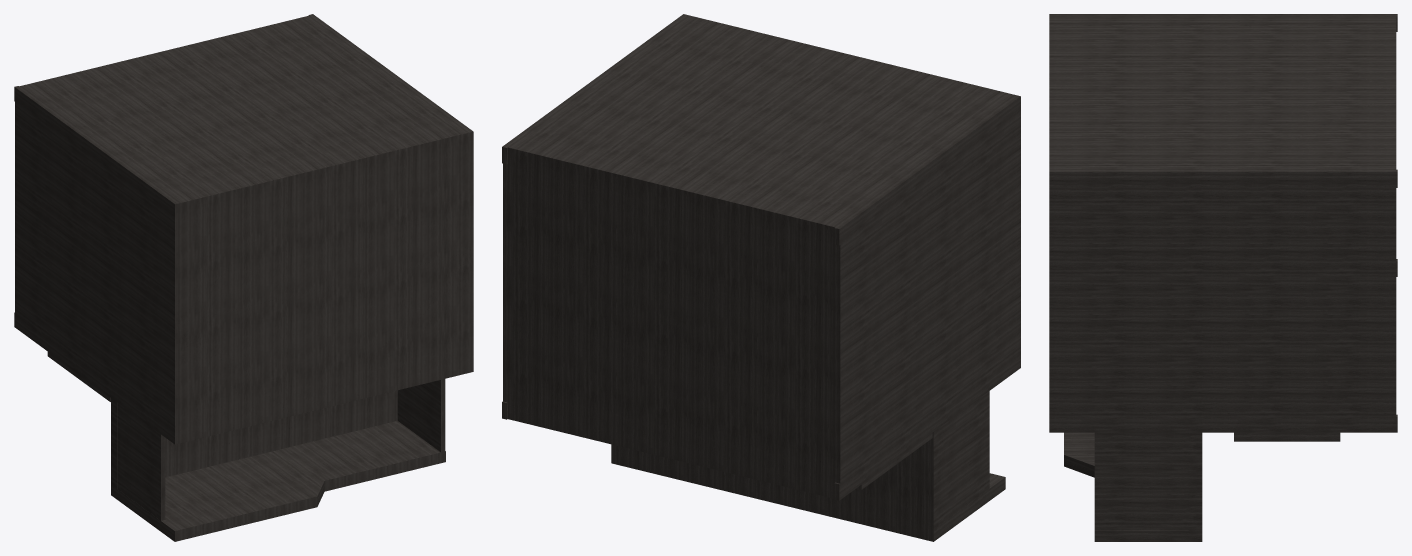
The model's file is mesita.dae.
3 renders of one model, left to right at view 1: azimuth 30°, elevation 25°; view 2: azimuth 150°, elevation 25°; view 3: azimuth 270°, elevation 25°, orthographic. The views are drawn at different scales.
Parts seen in each view (by area): view 1: node; view 2: node; view 3: node.
Boxes of the visible parts, x1,y1,x2,y2 form: node: (14,14,473,541); node: (502,14,1020,541); node: (1049,14,1397,541).
Size of the model in its own units: 563 by 620 by 525.
1 material, 1 textured.
